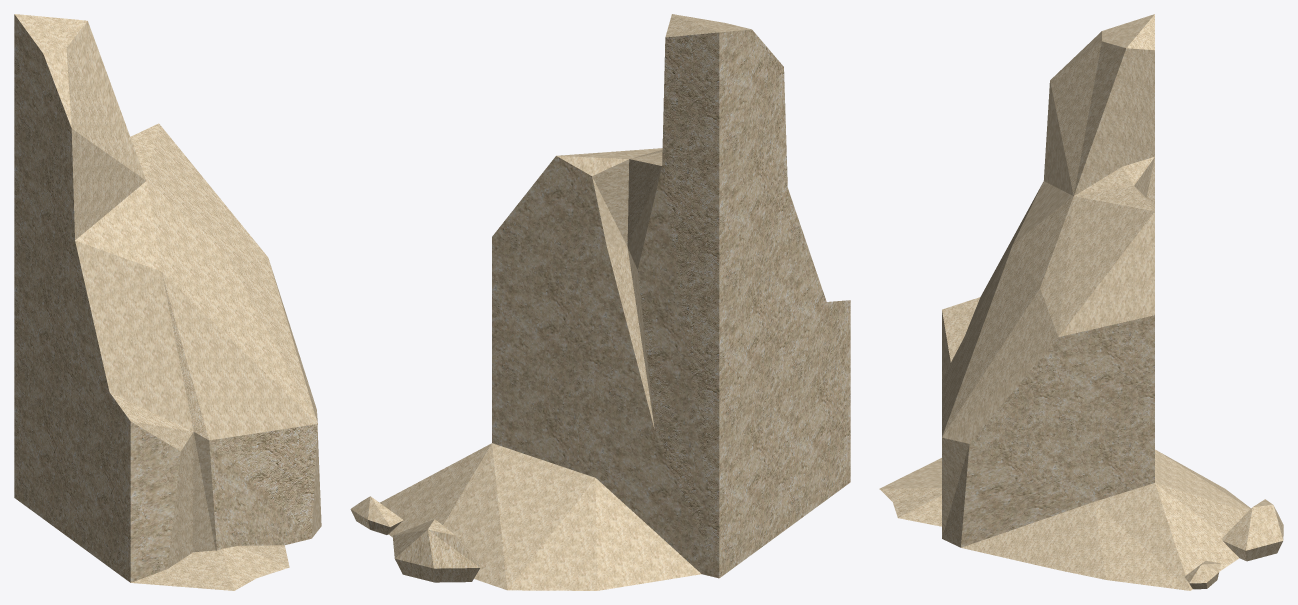
Rendered from thm_tato_imprv_pillar_ruin_sml_s01_l0.fbx.
The picture shows the model from 3 angles, left to right: view 1: azimuth 30°, elevation 25°; view 2: azimuth 150°, elevation 25°; view 3: azimuth 270°, elevation 25°; orthographic projection. The views are drawn at different scales.
Parts seen in each view (by area): view 1: mesh_node; view 2: mesh_node; view 3: mesh_node.
Boxes of the visible parts, x1,y1,x2,y2 form: mesh_node: (14,14,321,590); mesh_node: (350,14,850,590); mesh_node: (879,14,1283,590).
Size of the model in its own units: 1.48 by 2.3 by 1.9.
